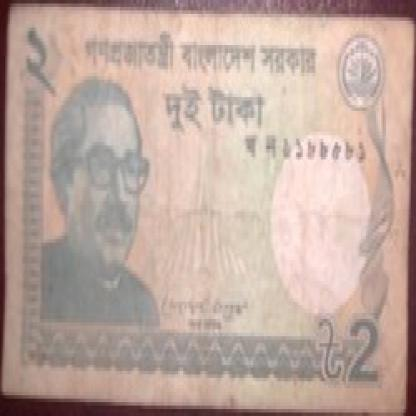two taka: (13, 21, 75, 104), (338, 312, 388, 392)
